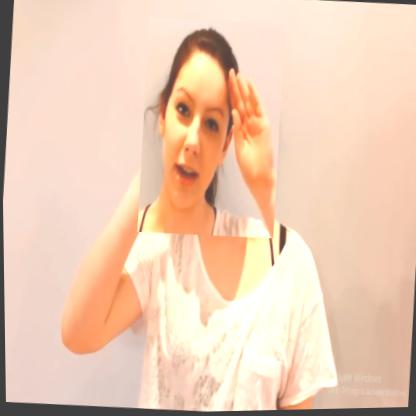Hello: (134, 17, 287, 242)
